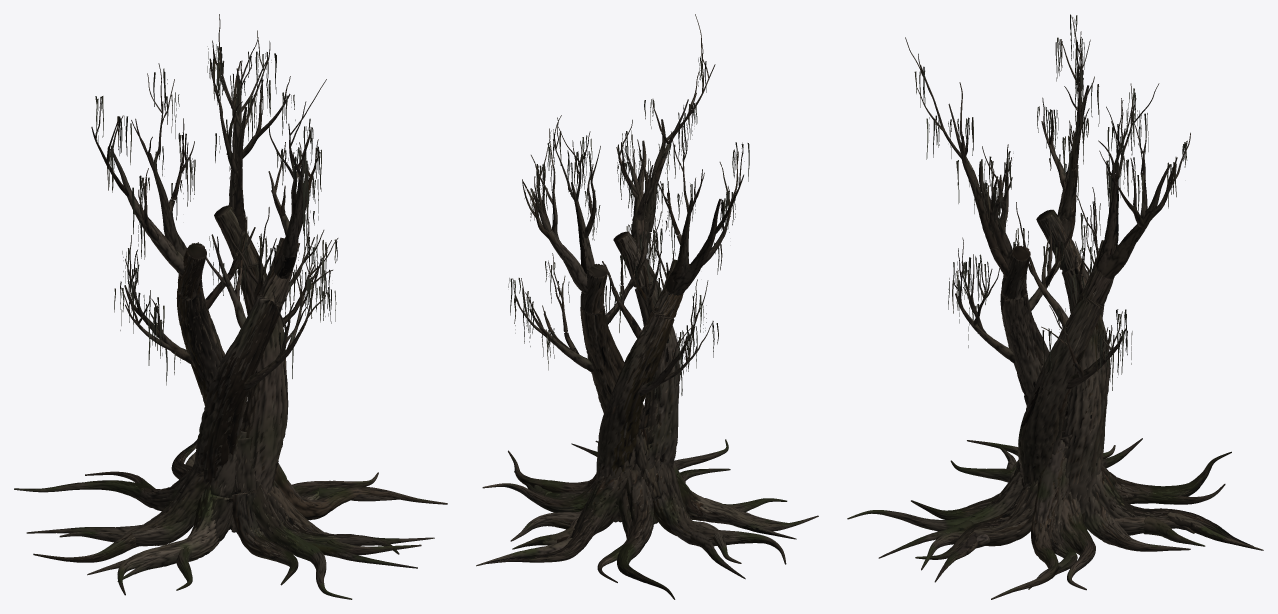
File: dead-oak-photo.glb
3 renders of one model, left to right at view 1: azimuth 30°, elevation 25°; view 2: azimuth 150°, elevation 25°; view 3: azimuth 270°, elevation 25°, orthographic. The views are drawn at different scales.
Visible parts, largest first — view 1: Dead oak | gnarled trunk, roots, branches, moss; view 2: Dead oak | gnarled trunk, roots, branches, moss; view 3: Dead oak | gnarled trunk, roots, branches, moss.
Part boxes in pixels (box(x1,y1,x2,y2)): Dead oak | gnarled trunk, roots, branches, moss: box(14, 14, 447, 599); Dead oak | gnarled trunk, roots, branches, moss: box(476, 14, 818, 599); Dead oak | gnarled trunk, roots, branches, moss: box(847, 14, 1263, 599).
Size of the model in its own units: 6.03 by 8.09 by 6.16.
Materials: 1 (1 with a texture image).
